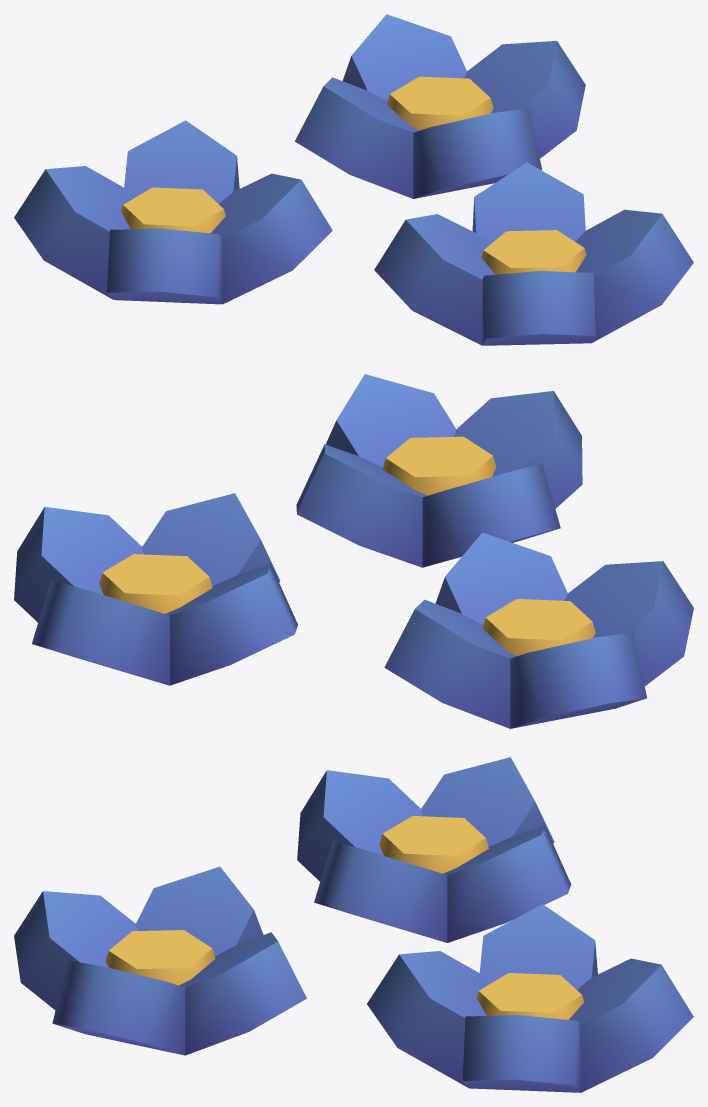
The model's file is flowers.glb.
3 views of the same model, one above another, from view 1: azimuth 30°, elevation 25°; view 2: azimuth 150°, elevation 25°; view 3: azimuth 270°, elevation 25° (orthographic). The views are drawn at different scales.
Parts seen in each view (by area): view 1: flowers; view 2: flowers; view 3: flowers.
Part boxes in pixels (x1,y1,x2,y2): flowers: (14,14,693,345); flowers: (14,374,693,728); flowers: (14,757,693,1092).
Bounding box in the file's own units: 0.7766 × 0.1371 × 0.7857.
1 material, 1 textured.
